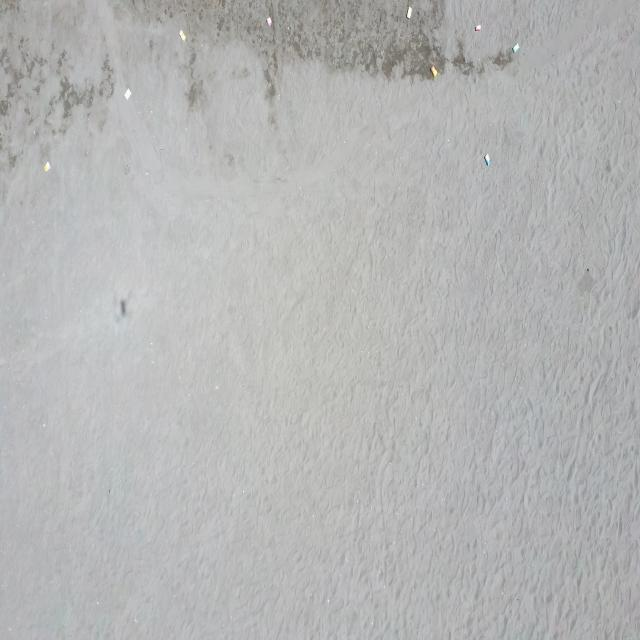Garbage: (123, 88, 131, 99), (484, 154, 489, 166), (180, 30, 186, 40), (431, 65, 436, 77), (406, 6, 411, 18), (512, 43, 519, 51), (267, 16, 272, 26), (473, 24, 480, 31), (44, 160, 48, 171)
